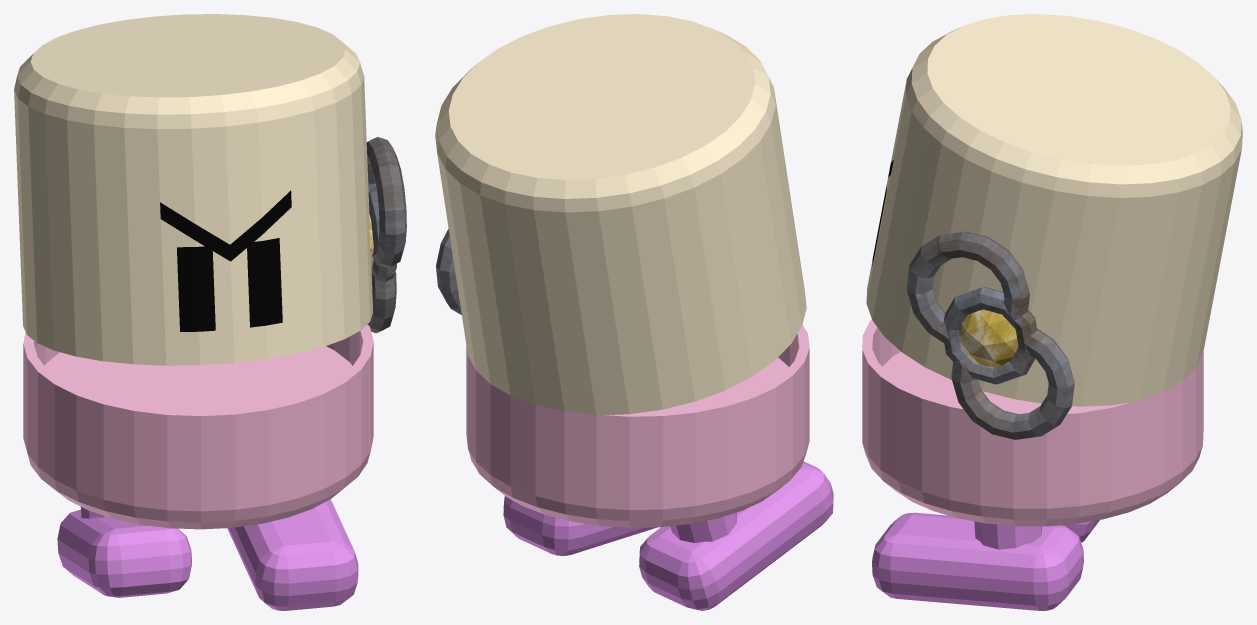
Rendered from Toasters017.obj.
3 renders of one model, left to right at view 1: azimuth 30°, elevation 25°; view 2: azimuth 150°, elevation 25°; view 3: azimuth 270°, elevation 25°, orthographic. The views are drawn at different scales.
Visible parts, largest first — view 1: Head, Jaw, LeftLeg, RightLeg, WindupKey; view 2: Head, Jaw, RightLeg, LeftLeg, WindupKey; view 3: Head, Jaw, WindupKey, LeftLeg.
Part boxes in pixels (x1,y1,x2,y2): Head: (14,14,373,365); Jaw: (23,324,373,529); LeftLeg: (227,499,358,610); RightLeg: (57,507,191,597); WindupKey: (366,137,406,333); Head: (435,14,806,415); Jaw: (466,325,809,527); RightLeg: (639,461,833,610); LeftLeg: (503,496,657,555); WindupKey: (436,229,461,314); Head: (866,14,1242,406); Jaw: (862,319,1203,526); WindupKey: (906,231,1074,439); LeftLeg: (872,512,1083,610).
Bounding box in the file's own units: 112 × 164 × 111.
Materials: 6 (2 with a texture image).
